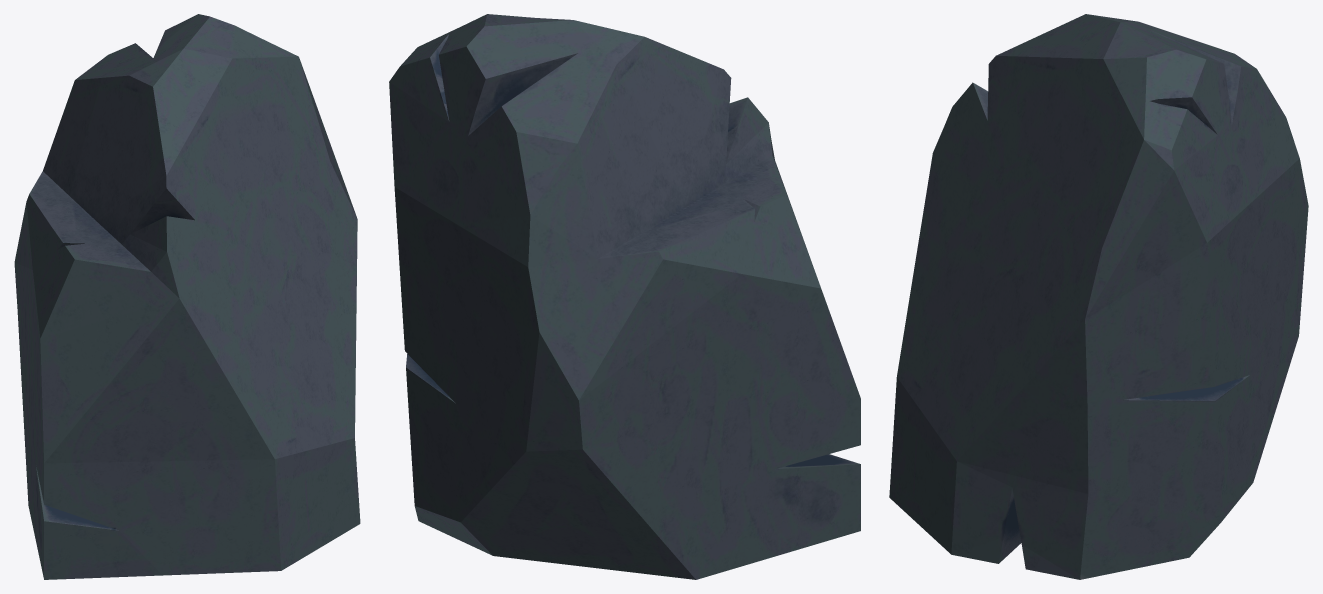
File: BOULDER002.glb
3 views of the same model, side by side, from view 1: azimuth 30°, elevation 25°; view 2: azimuth 150°, elevation 25°; view 3: azimuth 270°, elevation 25° (orthographic). The views are drawn at different scales.
Parts seen in each view (by area): view 1: Boulder002_low_col; view 2: Boulder002_low_col; view 3: Boulder002_low_col.
Boxes of the visible parts, left/top/right/bottom form: Boulder002_low_col: left=14, top=14, right=360, bottom=579; Boulder002_low_col: left=389, top=14, right=860, bottom=579; Boulder002_low_col: left=889, top=14, right=1308, bottom=579.
Size of the model in its own units: 2.5 by 2.99 by 2.36.
1 material, 1 textured.
